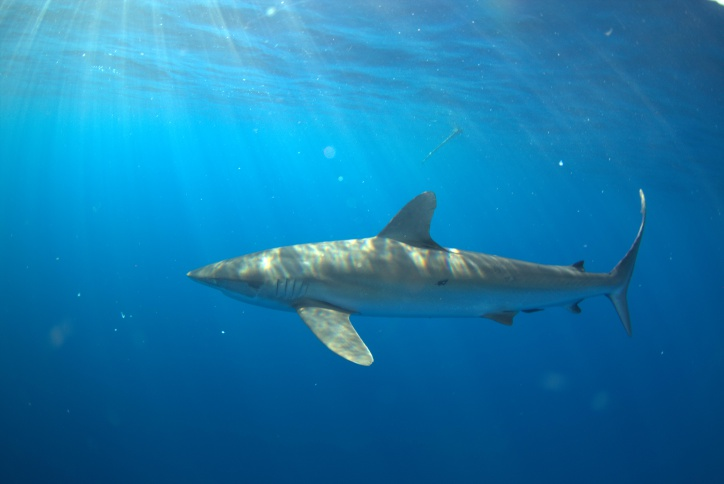Sedoso: (139, 177, 683, 377)
